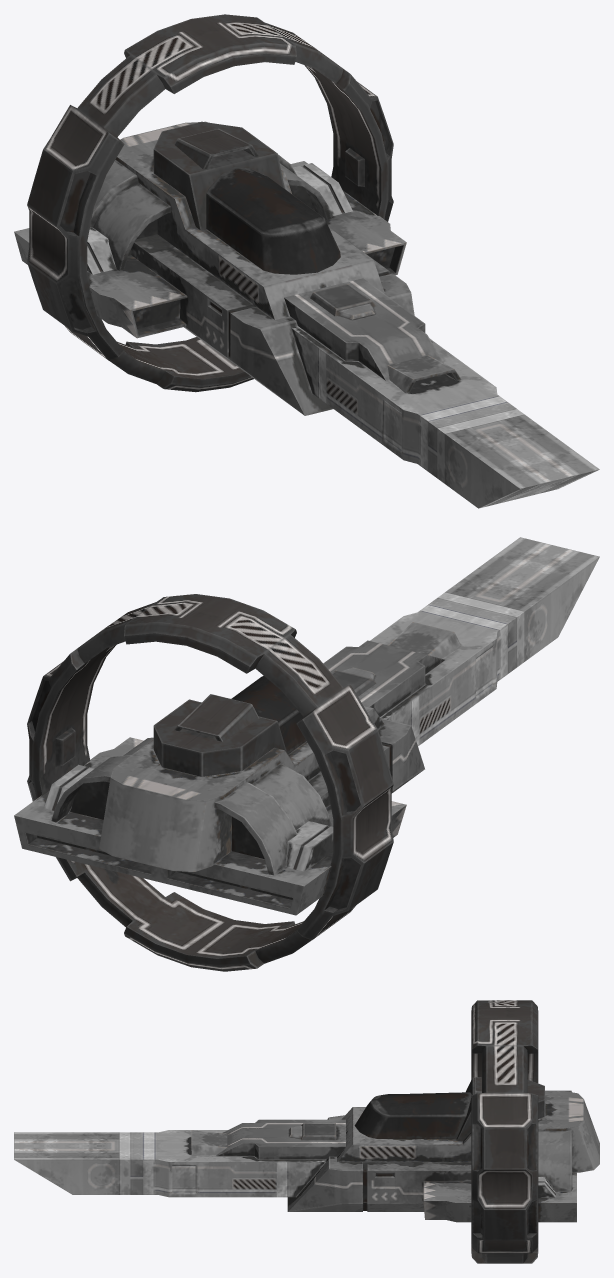
File: colony.glb
The picture shows the model from 3 angles, top to bottom: view 1: azimuth 30°, elevation 25°; view 2: azimuth 150°, elevation 25°; view 3: azimuth 270°, elevation 25°; orthographic projection. The views are drawn at different scales.
Parts seen in each view (by area): view 1: Zenith; view 2: Zenith; view 3: Zenith.
Boxes of the visible parts, bbox=[...] form: Zenith: bbox=[14, 14, 599, 508]; Zenith: bbox=[14, 537, 599, 971]; Zenith: bbox=[14, 1000, 599, 1263].
Bounding box in the file's own units: 5.63 × 5.43 × 12.07.
Materials: 1 (1 with a texture image).
